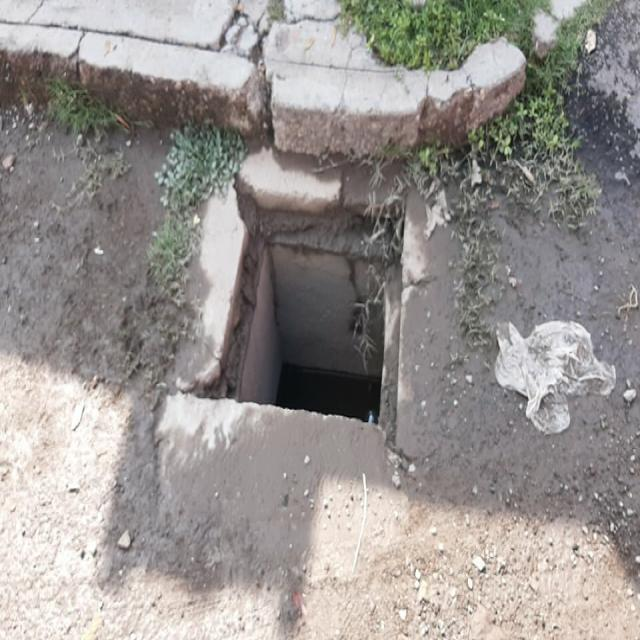Pothole: (200, 163, 490, 543)
